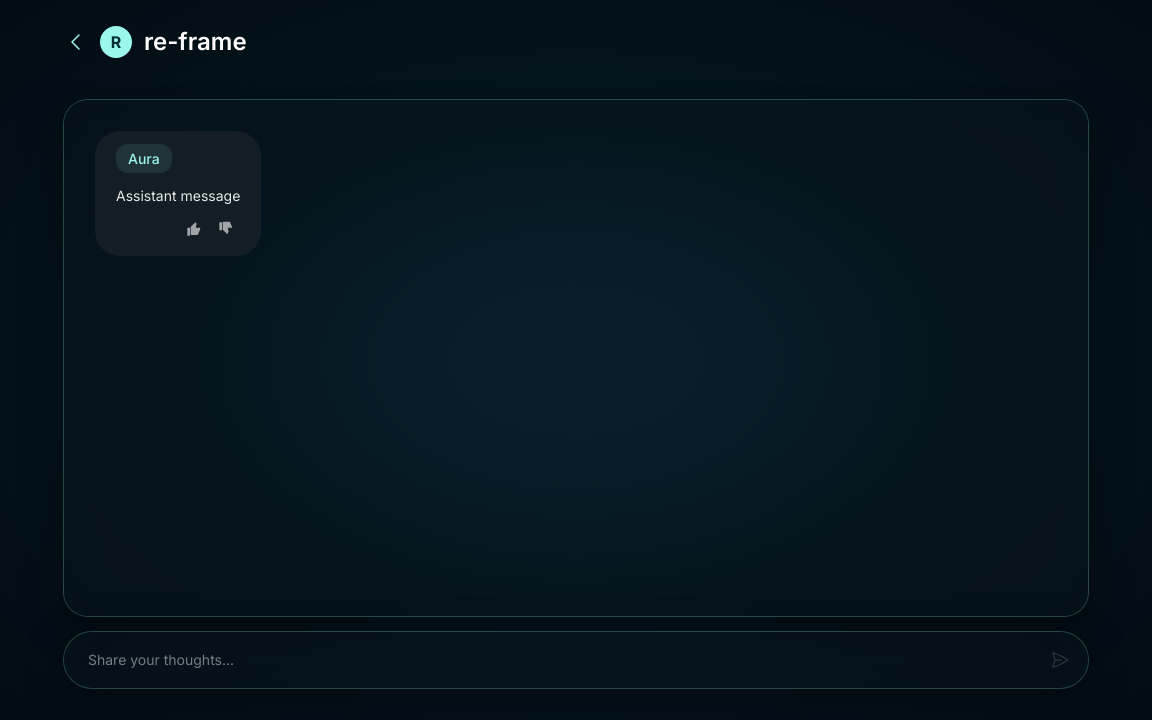
Test: ChatClient - Inline Feedback › allows skipping note and sending feedback without comment
Expected: the text "Assistant message" is shown, 116,185 -> 240,207
Click thumbs up
Click the button named "Thumbs up". click: (194, 229)
box: 180,215 -> 208,243
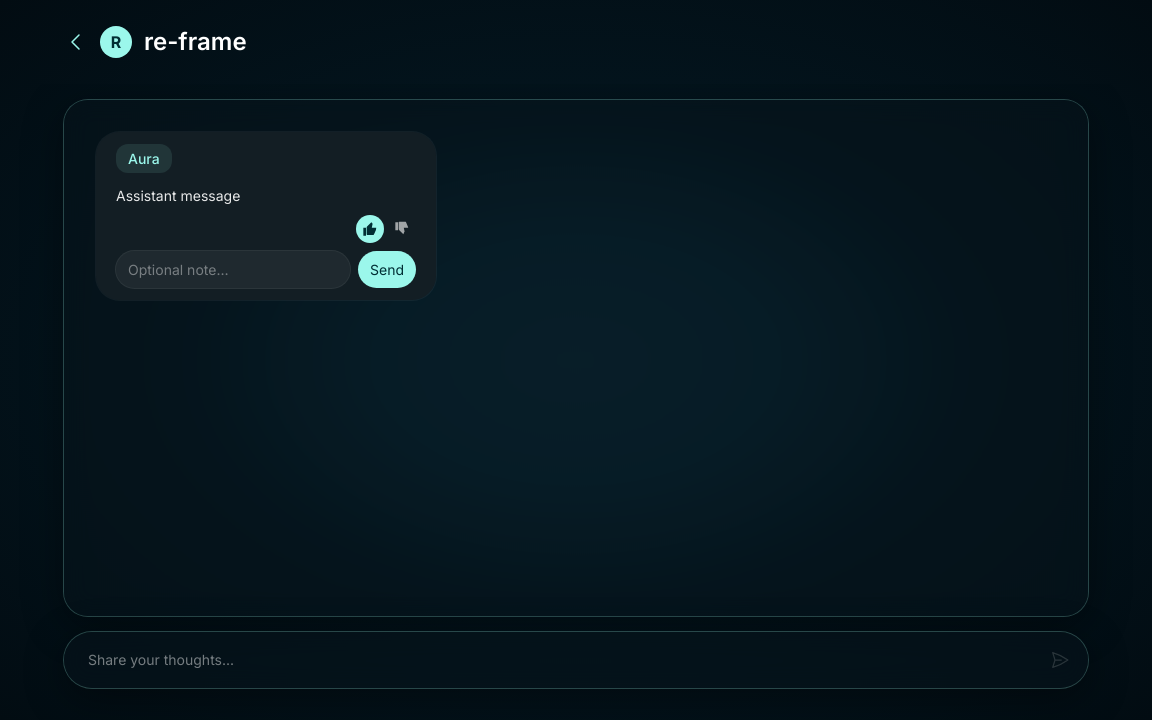
Click Send without entering a note (scoped to note row)
Click the button "Send". click: (387, 270)
box: 358,251 -> 416,288
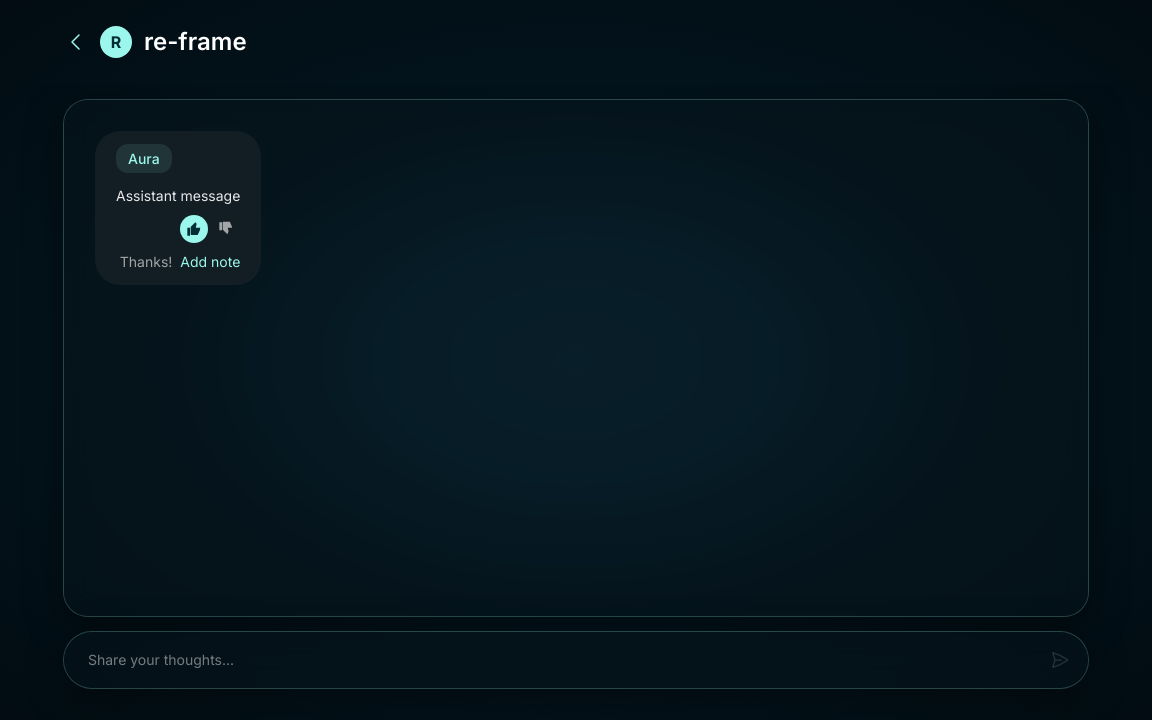
Now the text "Thanks!" is shown, box 120,251 -> 172,272
